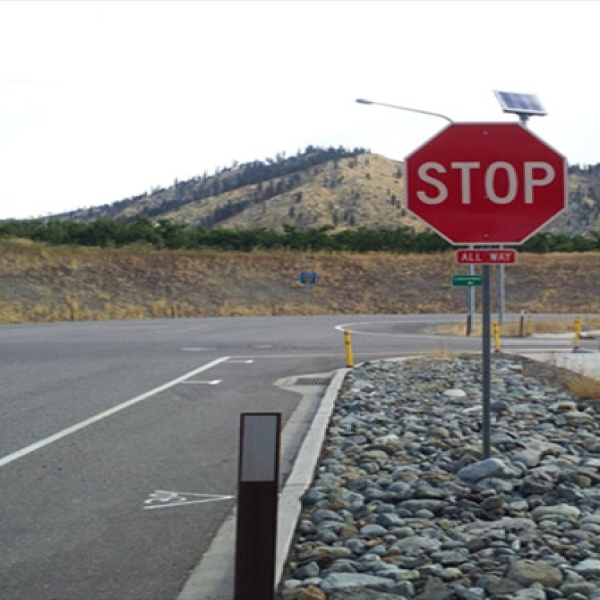stop: (403, 117, 568, 241)
